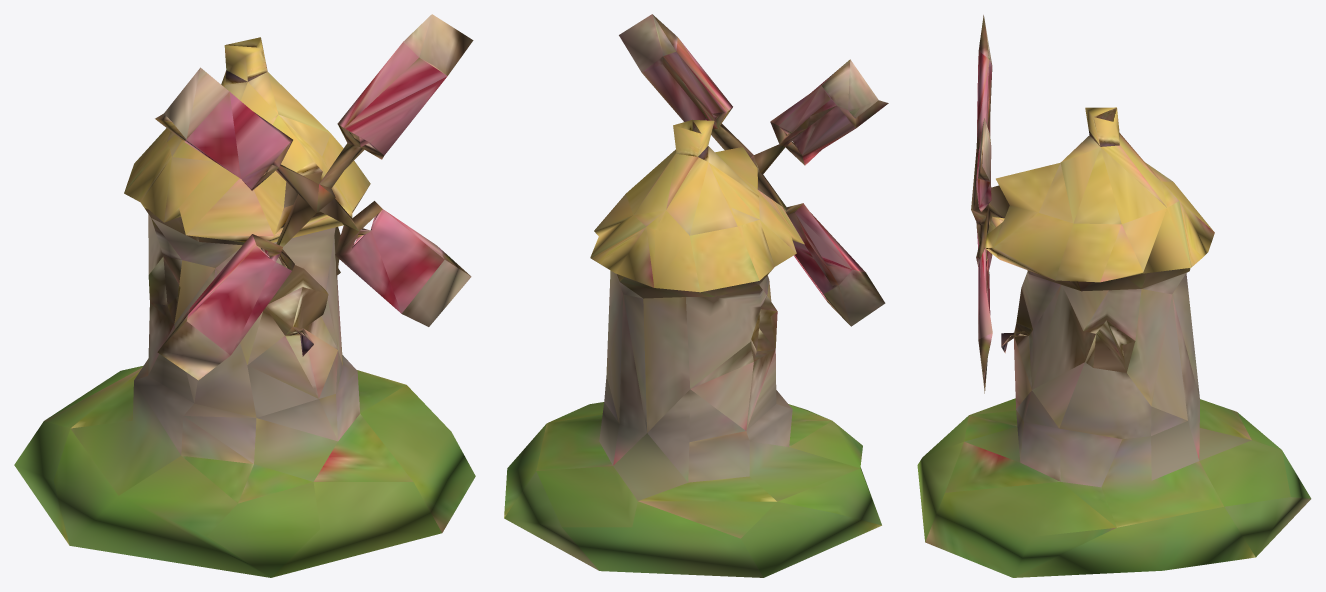
The model's file is repere-moulin-loin.glb.
3 views of the same model, side by side, from view 1: azimuth 30°, elevation 25°; view 2: azimuth 150°, elevation 25°; view 3: azimuth 270°, elevation 25° (orthographic). The views are drawn at different scales.
Visible parts, largest first — view 1: repere-moulin-loin; view 2: repere-moulin-loin; view 3: repere-moulin-loin.
Boxes of the visible parts, box(x1,y1,x2,y2) form: repere-moulin-loin: box(14, 14, 475, 577); repere-moulin-loin: box(504, 14, 888, 577); repere-moulin-loin: box(917, 15, 1311, 577).
Bounding box in the file's own units: 1.55 × 1.89 × 1.54.
Materials: 1 (1 with a texture image).
